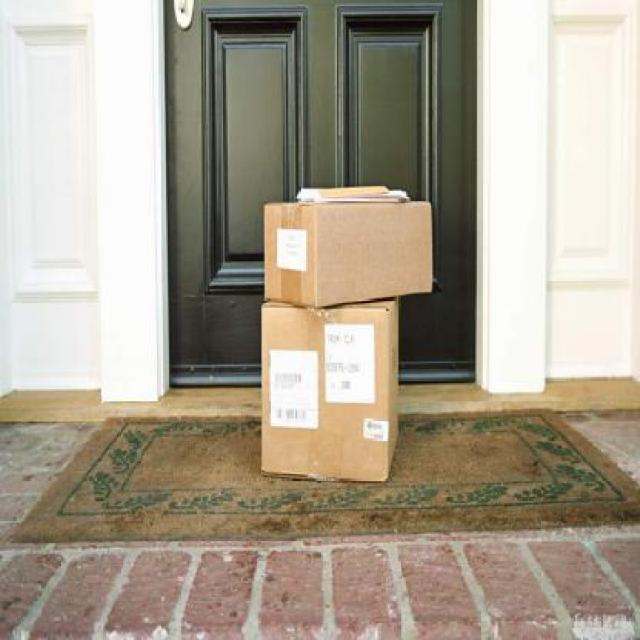cardboxes: (254, 295, 403, 490), (258, 192, 436, 302)
